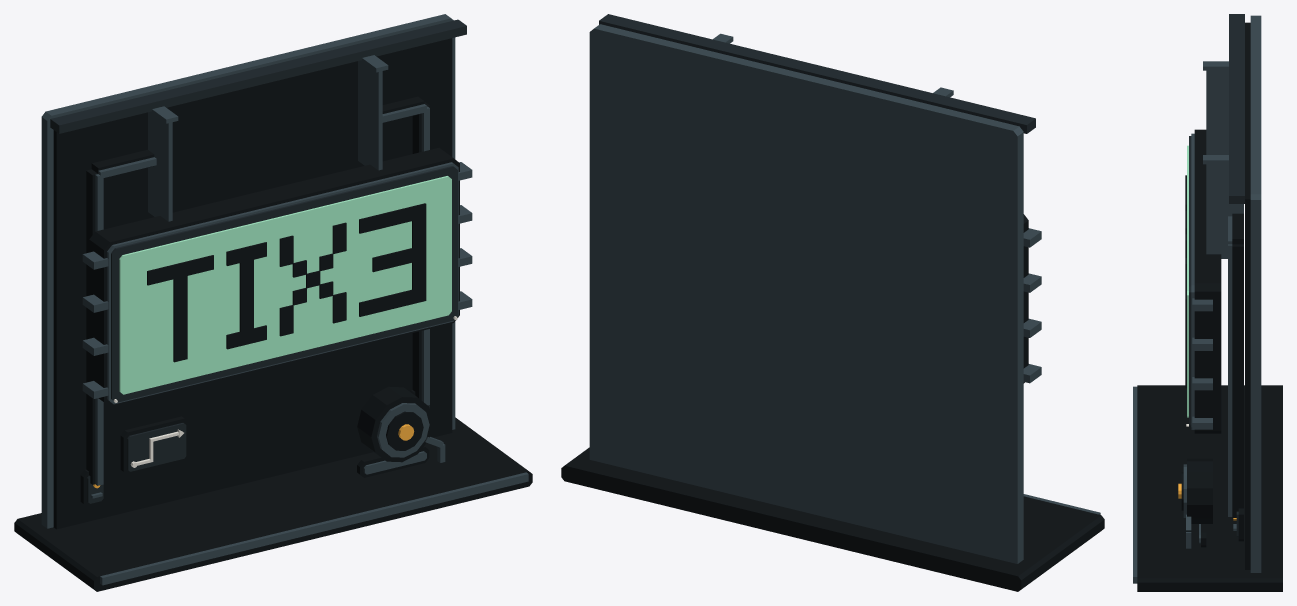
The picture shows the model from 3 angles, left to right: view 1: azimuth 30°, elevation 25°; view 2: azimuth 150°, elevation 25°; view 3: azimuth 270°, elevation 25°; orthographic projection. The views are drawn at different scales.
Visible parts, largest first — view 1: Exit Liquidity sign; view 2: Exit Liquidity sign; view 3: Exit Liquidity sign.
Part boxes in pixels (box(x1,y1,x2,y2)): Exit Liquidity sign: box(14, 14, 532, 591); Exit Liquidity sign: box(561, 14, 1104, 591); Exit Liquidity sign: box(1133, 14, 1282, 591).
Bounding box in the file's own units: 1.08 × 1 × 0.3475.
